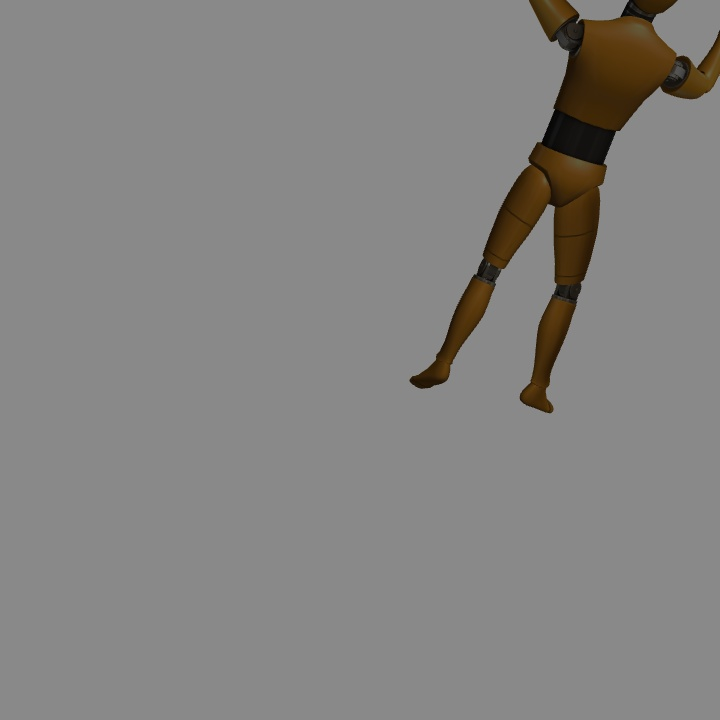victim: (418, 5, 720, 413)
